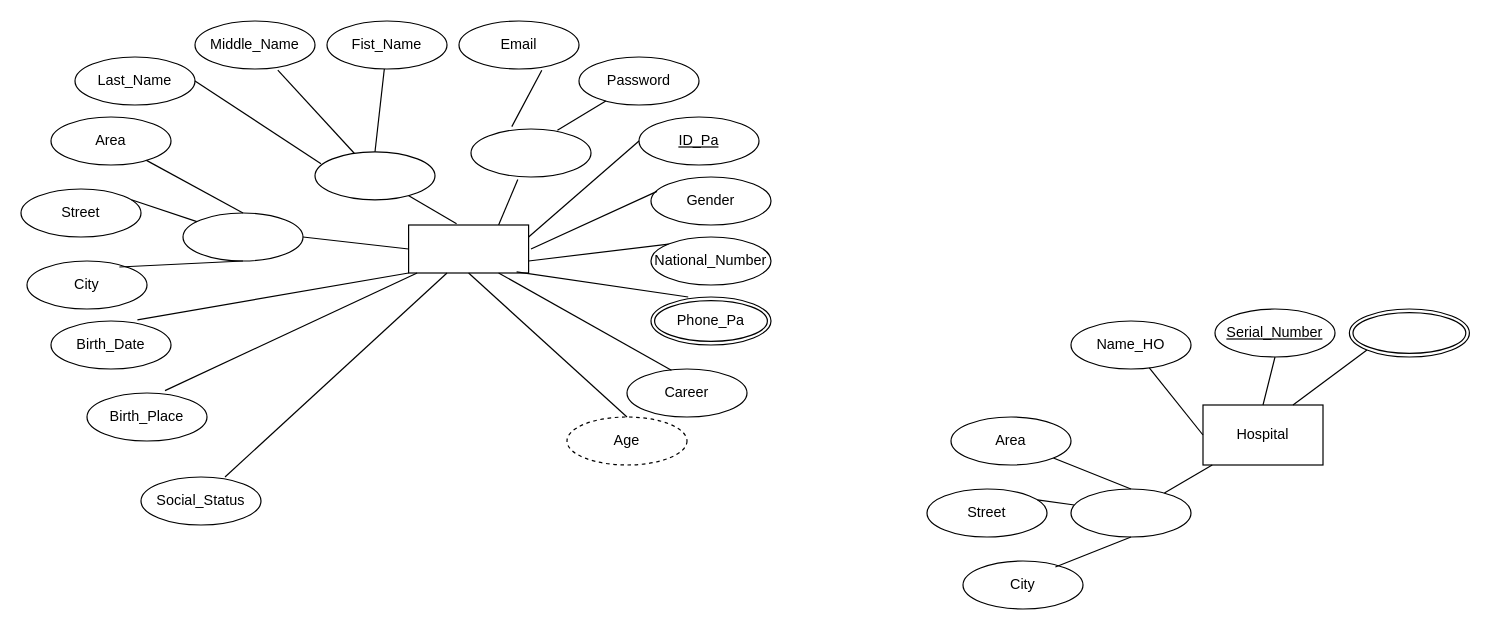
The diagram is 1490 pixels wide and 630 high, and some of its shapes have lost their labels. Here are the shapes that lost their labels. From the top down, the box of each, then its label:
(470, 128, 591, 177): (Acount)
(314, 151, 435, 200): (Patient_Name)
(182, 212, 303, 261): (Location_Pa)
(407, 224, 529, 273): Patient
(1348, 308, 1469, 357): Phone_HO
(1070, 488, 1191, 537): (Location_HO)
